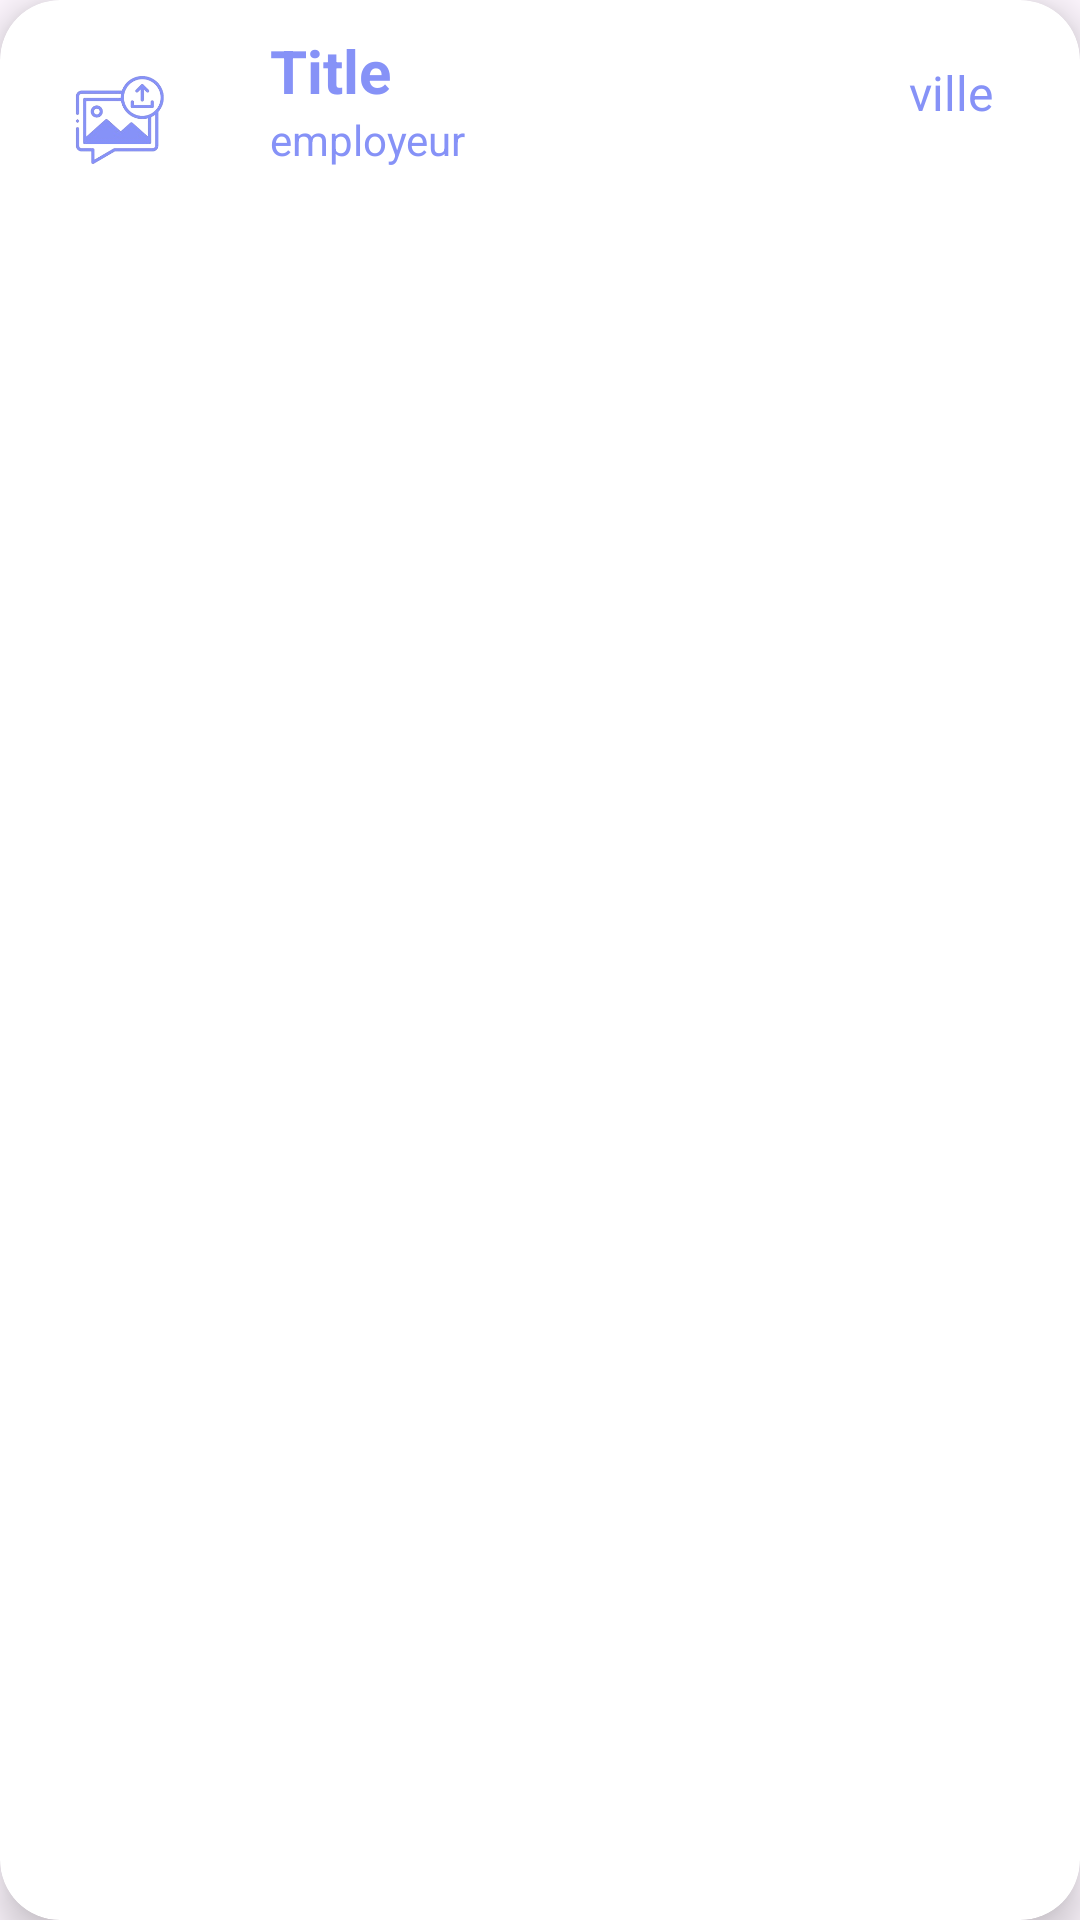

Named icons in this screenshot (1080×1920) and their bounding boxes, rect(x1, y1, x2, y2):
uploadimg: rect(76, 76, 164, 164)
